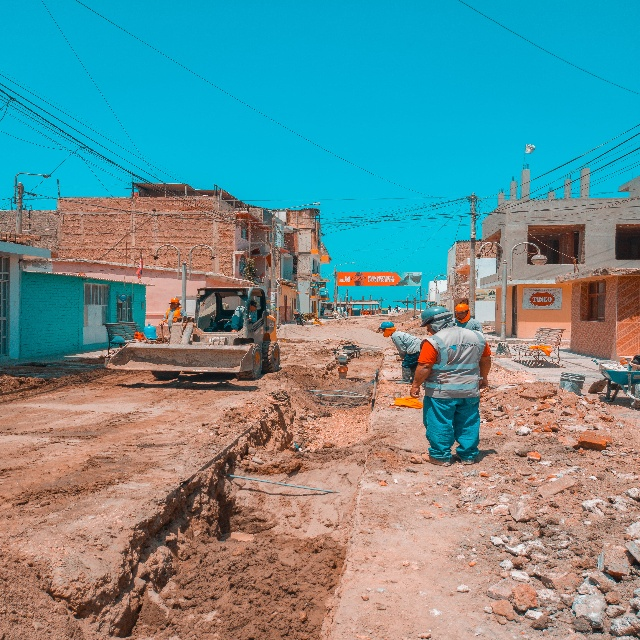Sin_guantes: (409, 382, 419, 398), (478, 377, 489, 389), (230, 329, 239, 334)
